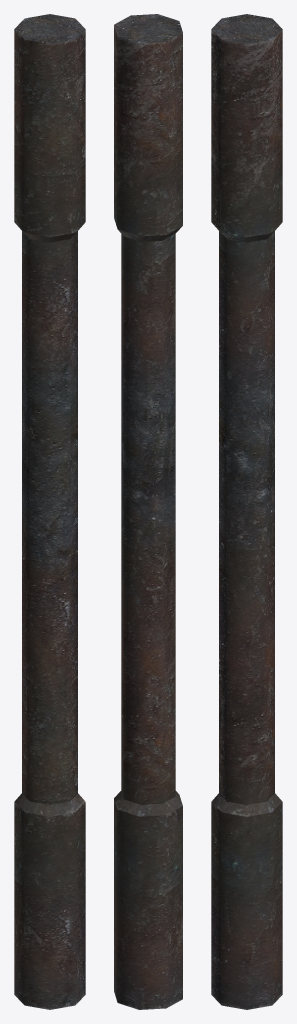
The model's file is NM_ThinTube_02.fbx.
The picture shows the model from 3 angles, left to right: view 1: azimuth 90°, elevation 25°; view 2: azimuth 210°, elevation 25°; view 3: azimuth 270°, elevation 25°; orthographic projection.
Parts seen in each view (by area): view 1: TubeThin_Long02_low; view 2: TubeThin_Long02_low; view 3: TubeThin_Long02_low.
Boxes of the visible parts, left/top/right/bottom form: TubeThin_Long02_low: left=14, top=14, right=85, bottom=1009; TubeThin_Long02_low: left=114, top=14, right=182, bottom=1009; TubeThin_Long02_low: left=211, top=14, right=282, bottom=1009.
Bounding box in the file's own units: 13.38 × 200 × 13.38.
